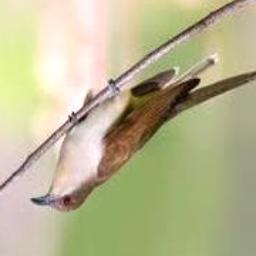Cuckoo: (30, 54, 256, 211)
